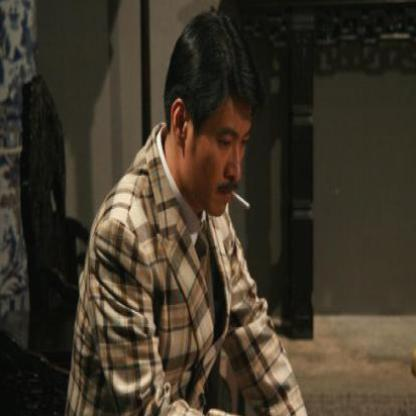cigarette: (232, 188, 252, 208)
person: (64, 12, 284, 415)
